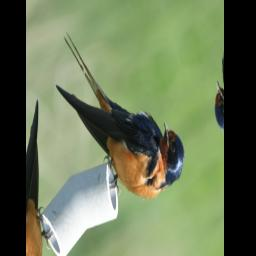Swallow: (46, 0, 193, 241)
